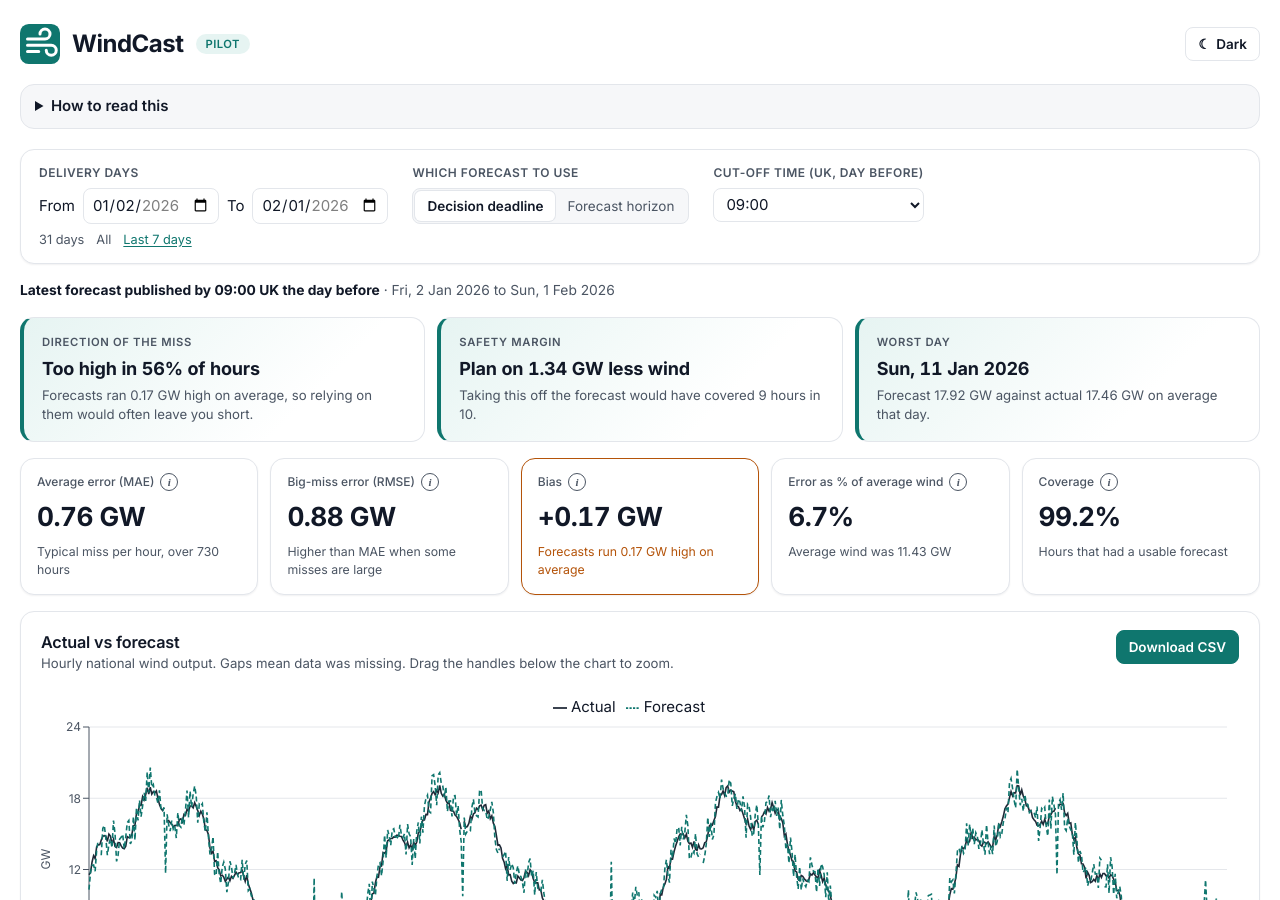
Test: App › switching mode updates the URL and refetches with the horizon
The image size is (1280, 900).
Expected: the list named "Key accuracy numbers" is shown, [20, 458, 1260, 595]
Click the radio button labelled "Forecast horizon" at point(621, 206), box [556, 190, 686, 221]
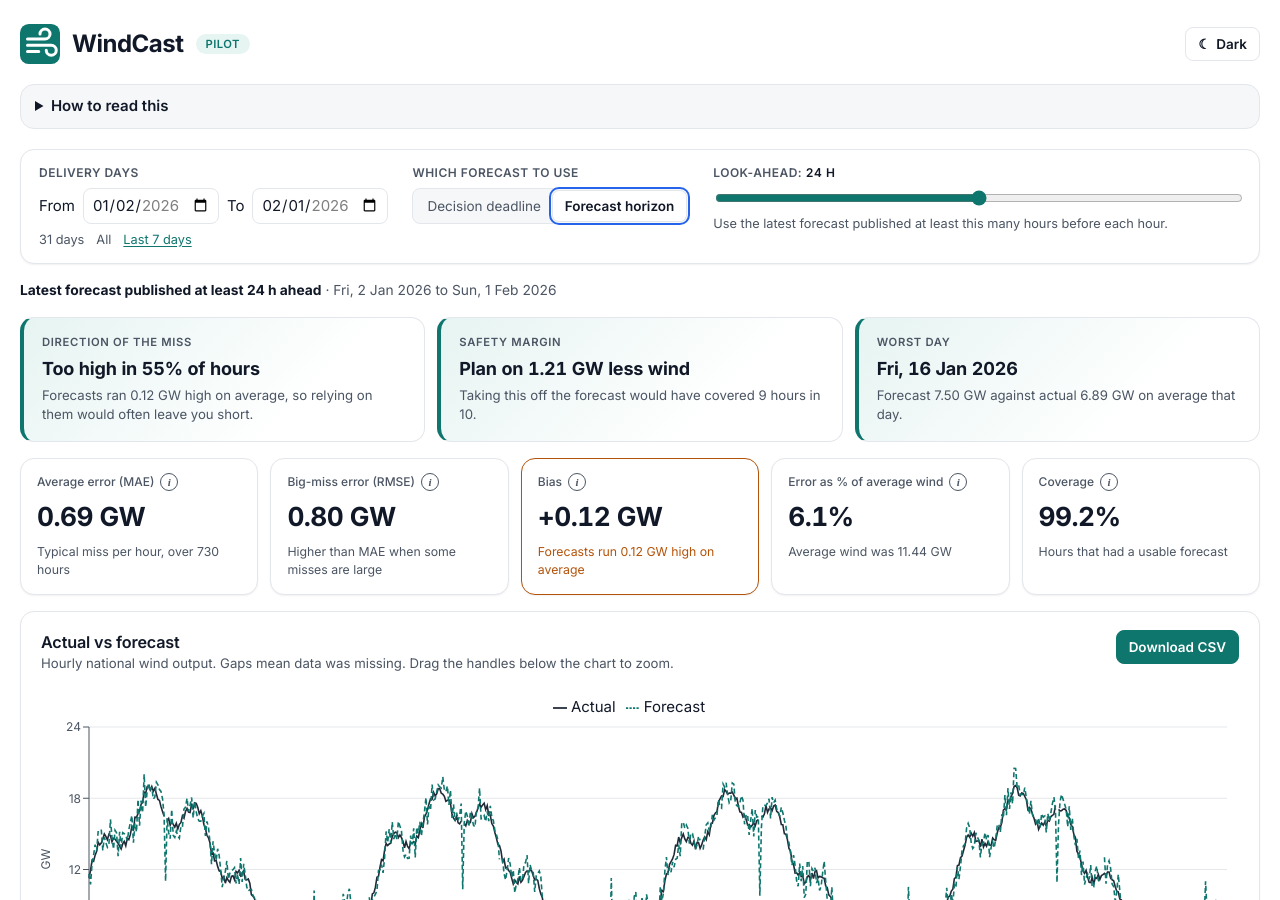
Expected: the slider labelled "Look-ahead: 24 h" holds "24", [715, 190, 1243, 206]
